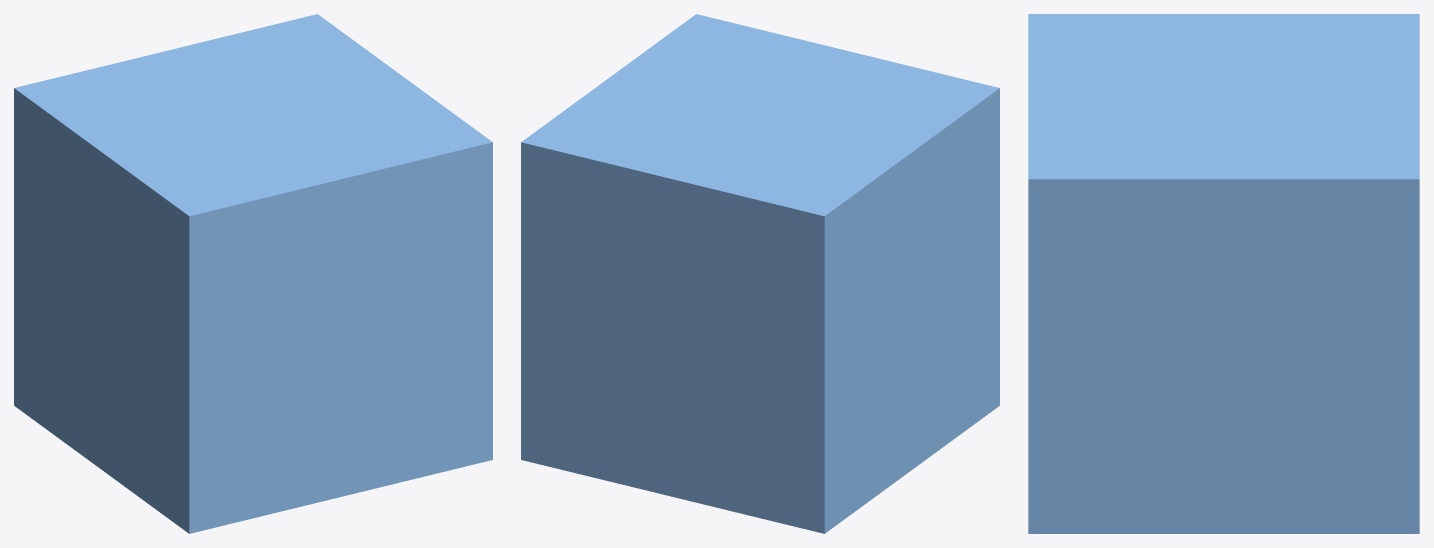
The model's file is stage_3.obj.
The picture shows the model from 3 angles, left to right: view 1: azimuth 30°, elevation 25°; view 2: azimuth 150°, elevation 25°; view 3: azimuth 270°, elevation 25°; orthographic projection. The views are drawn at different scales.
Bounding box in the file's own units: 19 × 19 × 19.
